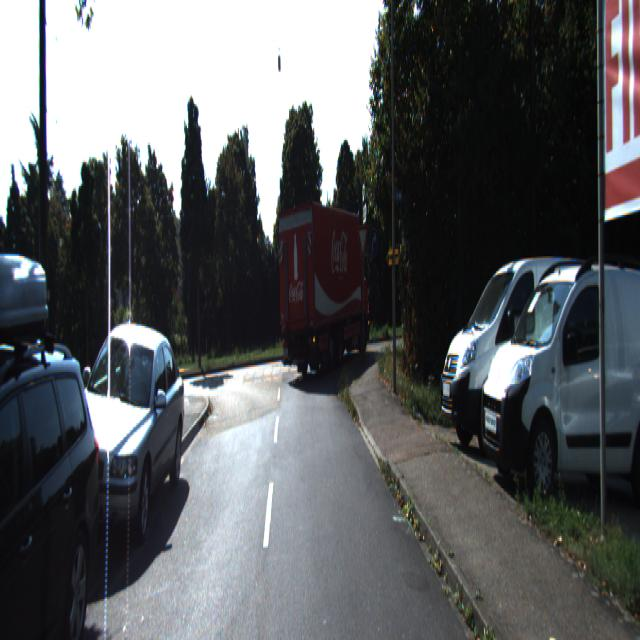Car: (436, 249, 631, 466), (476, 252, 640, 508), (57, 316, 191, 572), (0, 324, 106, 638), (272, 193, 370, 380)
